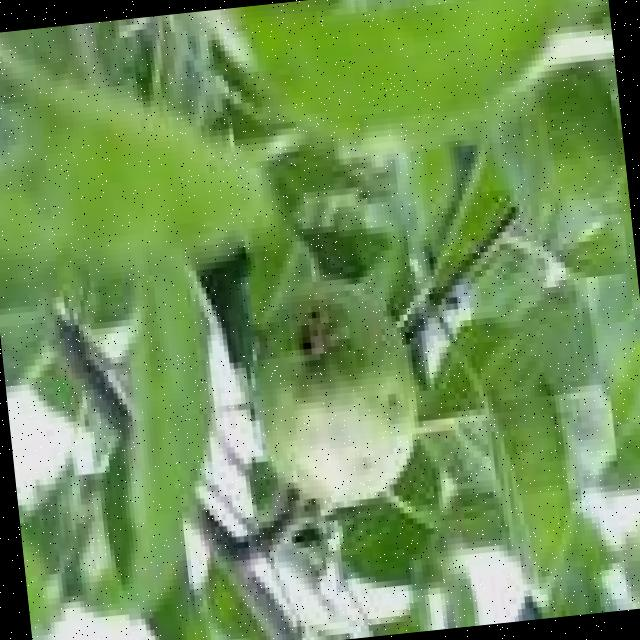Unripe: (244, 276, 426, 512)
